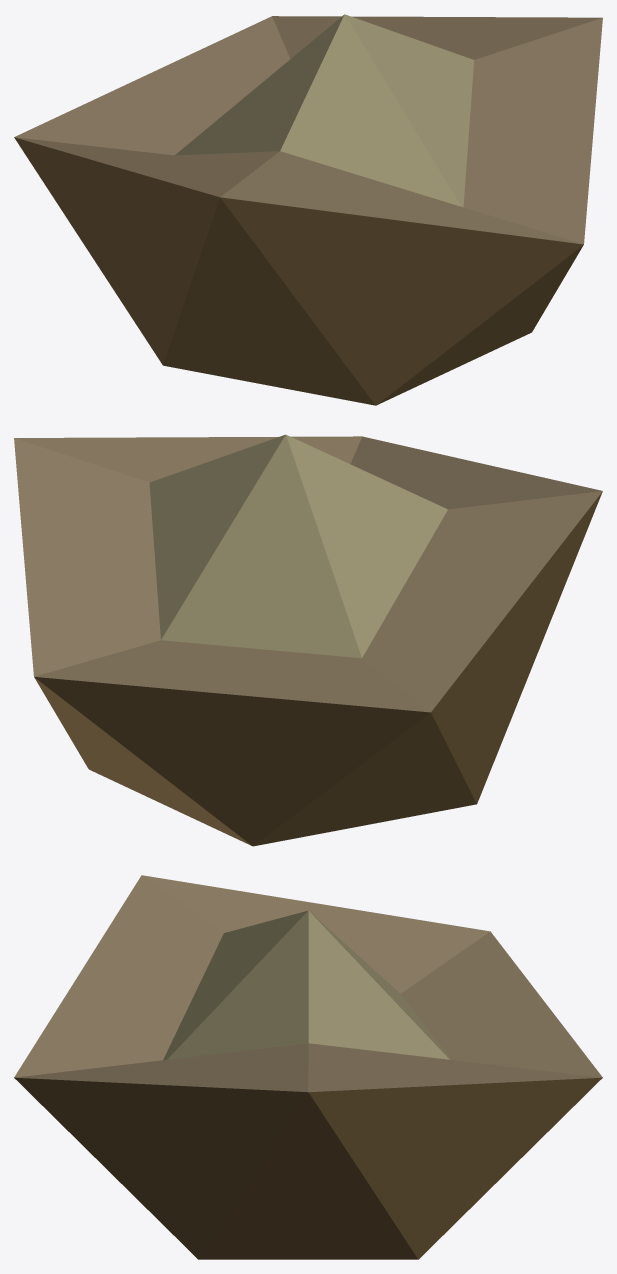
The model's file is TB_D_Env_GrassB_B.FBX.
3 views of the same model, one above another, from view 1: azimuth 30°, elevation 25°; view 2: azimuth 150°, elevation 25°; view 3: azimuth 270°, elevation 25° (orthographic). The views are drawn at different scales.
Visible parts, largest first — view 1: TB_D_Env_GrassB_B; view 2: TB_D_Env_GrassB_B; view 3: TB_D_Env_GrassB_B.
Boxes of the visible parts, x1,y1,x2,y2 form: TB_D_Env_GrassB_B: (14,14,602,405); TB_D_Env_GrassB_B: (14,434,602,846); TB_D_Env_GrassB_B: (14,875,602,1259).
Size of the model in its own units: 1.26 by 0.7536 by 1.39.
